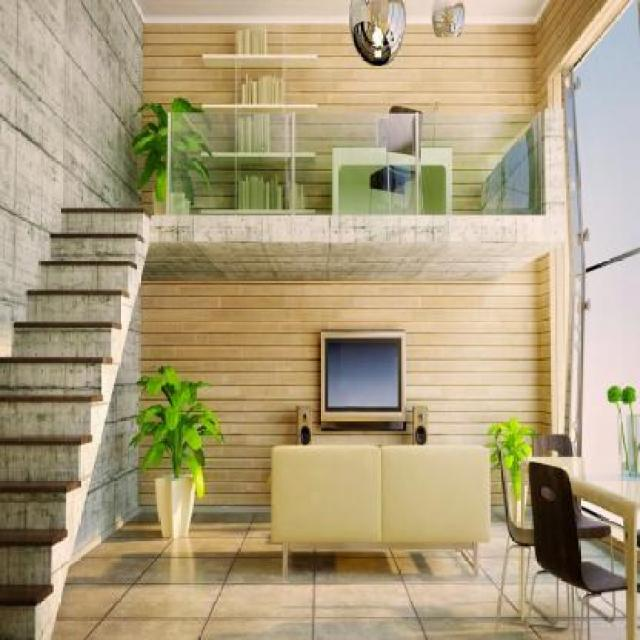Floor: (50, 511, 526, 639), (526, 584, 574, 640), (499, 549, 529, 623), (589, 591, 626, 639), (532, 574, 556, 620), (579, 539, 611, 568), (527, 547, 544, 600), (554, 579, 568, 627), (589, 592, 614, 617), (573, 586, 582, 640), (613, 547, 625, 576), (524, 549, 529, 599), (576, 587, 586, 598)
